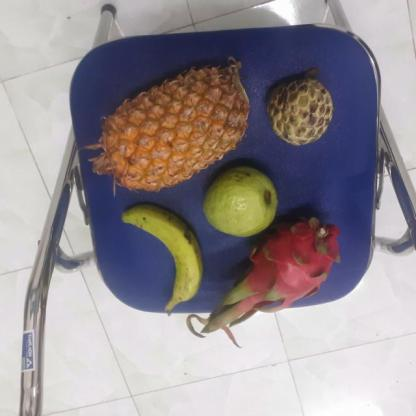annona: (263, 74, 333, 145)
banana: (117, 202, 205, 309)
guava: (198, 163, 279, 239)
pineapple: (93, 60, 250, 192)
pitaya: (233, 217, 332, 309)
